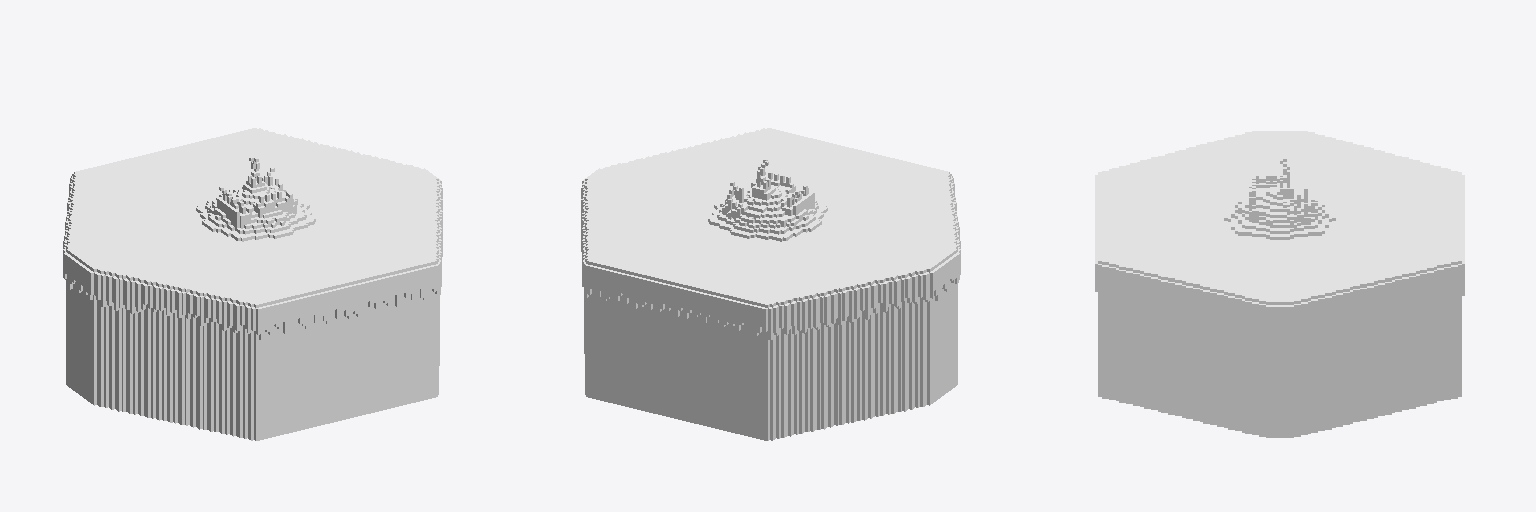
File: protect_hex_highland.obj
The picture shows the model from 3 angles: view 1: azimuth 30°, elevation 25°; view 2: azimuth 150°, elevation 25°; view 3: azimuth 270°, elevation 25°; orthographic projection.
Parts seen in each view (by area): view 1: object 1; view 2: object 1; view 3: object 1.
Part boxes in pixels (x1,y1,x2,y2): object 1: (63,128,442,440); object 1: (581,128,960,440); object 1: (1095,131,1464,437).
Bounding box in the file's own units: 11.8 × 6.1 × 10.6.